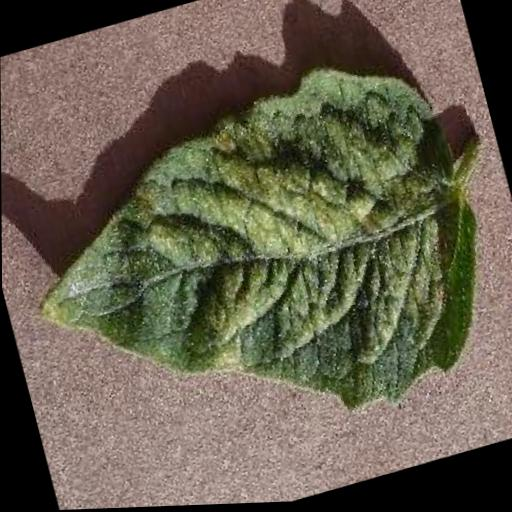Spider Mites: (0, 40, 512, 499)
